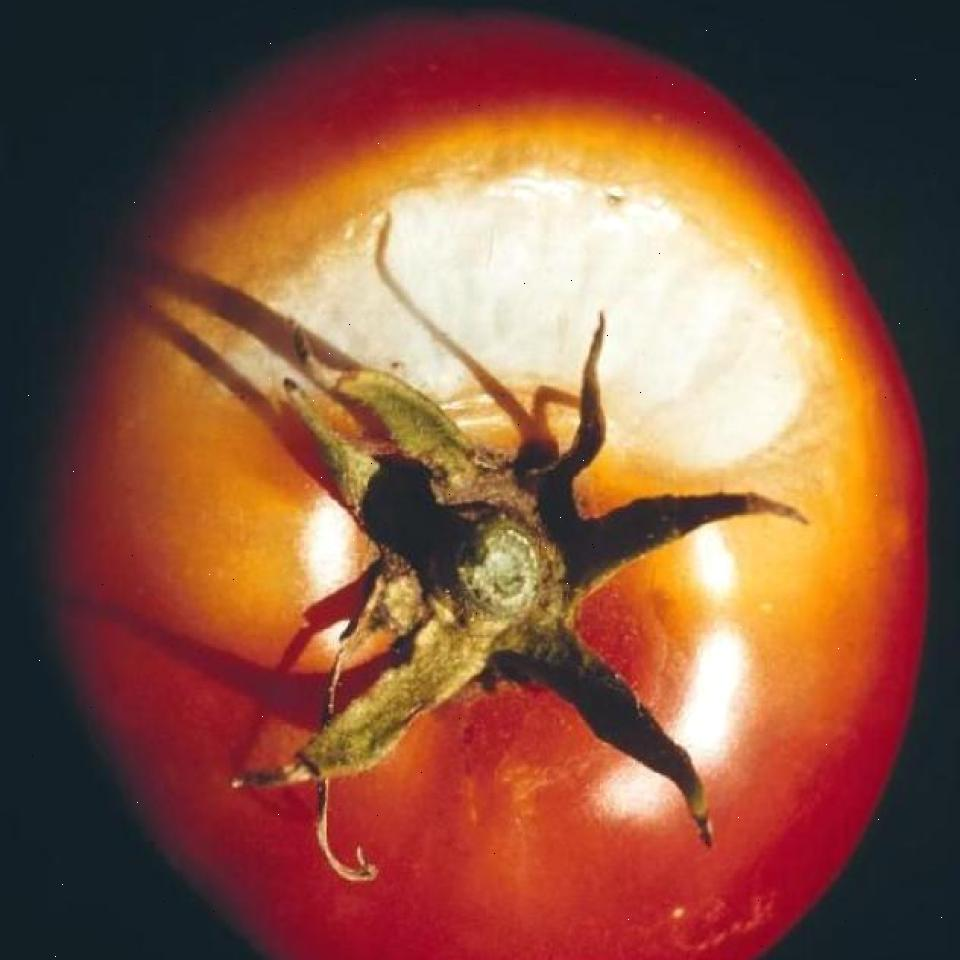Sunscald: (207, 118, 818, 488)
